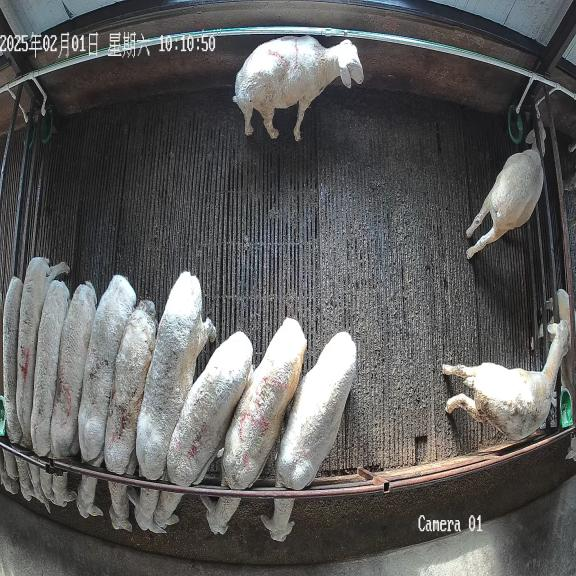drinking: (466, 110, 545, 258)
eating: (201, 318, 306, 534), (135, 272, 215, 532), (153, 332, 254, 533), (262, 332, 356, 541), (77, 274, 136, 518), (16, 257, 69, 512), (101, 300, 157, 531), (48, 282, 97, 506), (30, 278, 69, 502), (3, 277, 34, 502)
stand: (442, 308, 570, 440), (233, 36, 364, 141)
